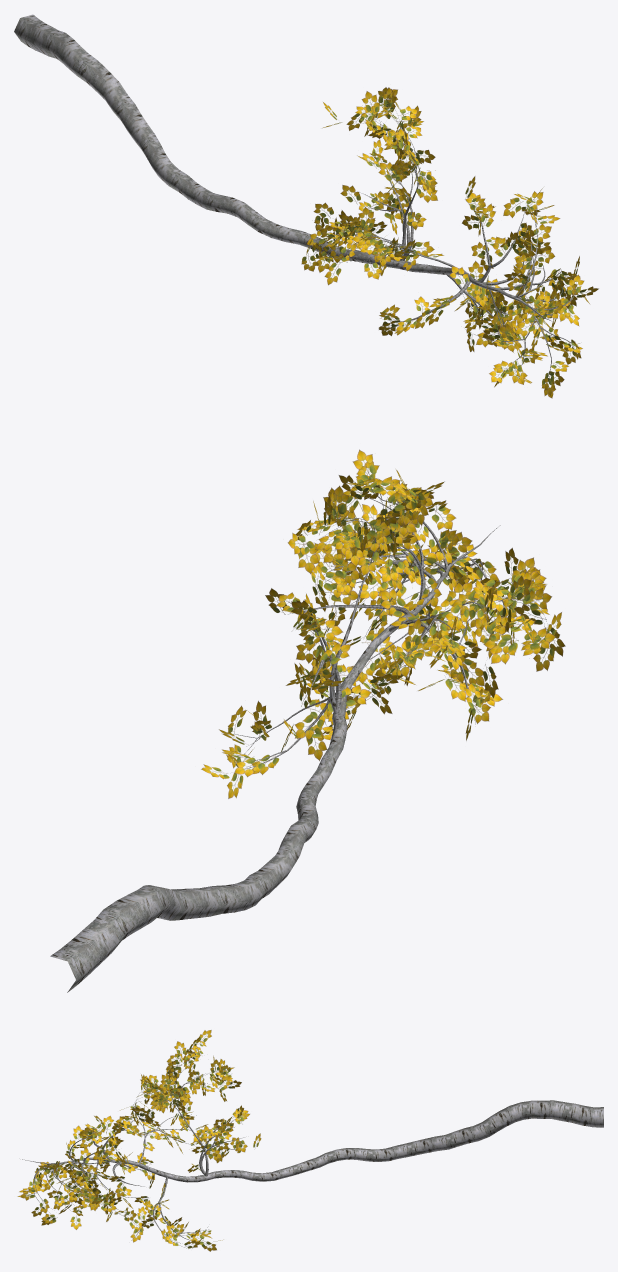
File: Aspen3.glb
3 views of the same model, one above another, from view 1: azimuth 30°, elevation 25°; view 2: azimuth 150°, elevation 25°; view 3: azimuth 270°, elevation 25° (orthographic). The views are drawn at different scales.
Parts seen in each view (by area): view 1: Object_22, Object_20; view 2: Object_22, Object_20; view 3: Object_22, Object_20.
Boxes of the visible parts, <box> form: Object_22: <box>301,87,598,398</box>; Object_20: <box>14,14,579,373</box>; Object_22: <box>201,449,565,798</box>; Object_20: <box>50,482,547,992</box>; Object_22: <box>17,1030,261,1251</box>; Object_20: <box>22,1057,603,1248</box>.
Bounding box in the file's own units: 9.46 × 10.15 × 28.53.
Materials: 2 (2 with a texture image).
